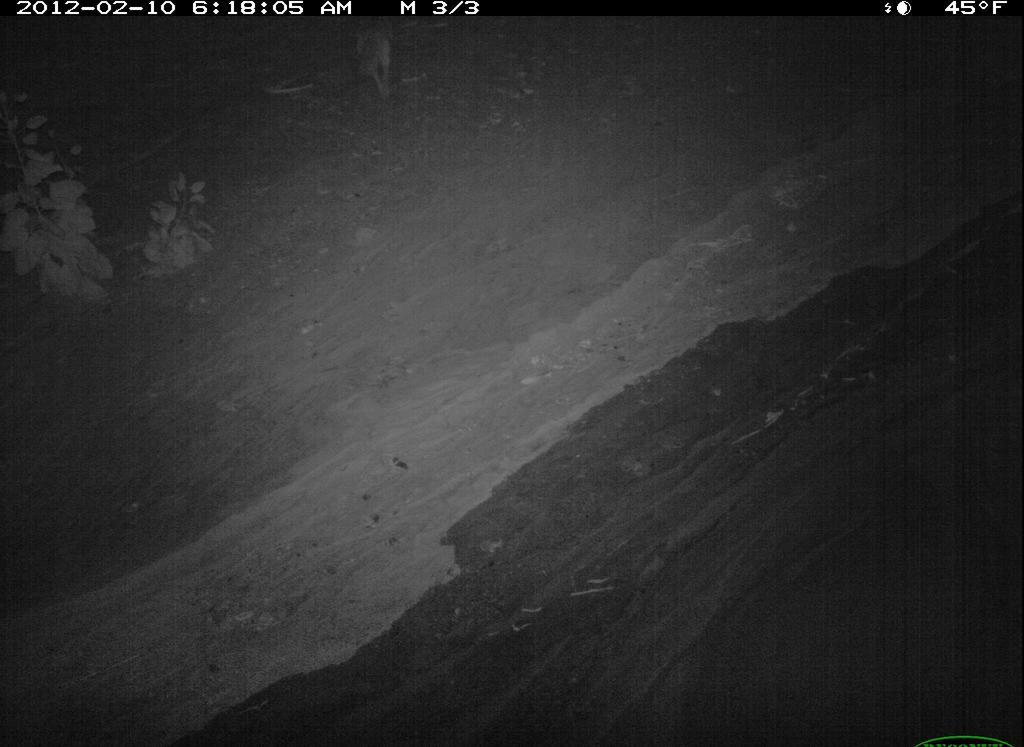coyote: (694, 32, 796, 221)
